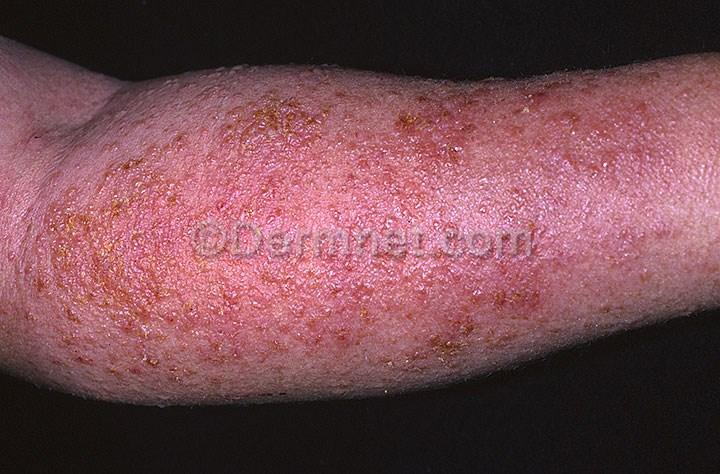Eczema: (153, 178, 263, 272), (116, 263, 189, 373), (245, 146, 325, 237), (559, 226, 666, 292), (407, 187, 482, 281), (16, 315, 121, 381), (316, 123, 395, 208), (410, 278, 479, 368), (456, 152, 550, 218), (388, 83, 453, 178), (287, 332, 381, 397), (319, 214, 402, 285), (254, 247, 321, 333), (481, 268, 548, 352), (186, 343, 281, 398), (37, 243, 122, 303), (223, 96, 319, 149), (112, 216, 200, 273), (194, 271, 265, 341), (620, 63, 667, 163), (563, 78, 614, 163), (610, 173, 683, 231), (38, 186, 109, 244), (148, 122, 221, 178), (371, 318, 426, 391), (541, 268, 599, 336), (669, 66, 720, 143), (491, 209, 558, 267), (508, 79, 561, 152), (564, 173, 630, 228), (685, 141, 720, 237), (101, 145, 145, 221), (102, 97, 171, 144), (459, 86, 503, 158), (4, 154, 103, 186), (1, 251, 49, 316), (299, 75, 367, 119), (334, 288, 402, 328), (4, 185, 42, 255), (84, 381, 184, 406), (59, 78, 109, 121), (679, 238, 711, 302), (221, 63, 289, 89), (175, 78, 226, 111), (625, 286, 676, 317), (19, 119, 56, 152), (66, 126, 98, 153)
